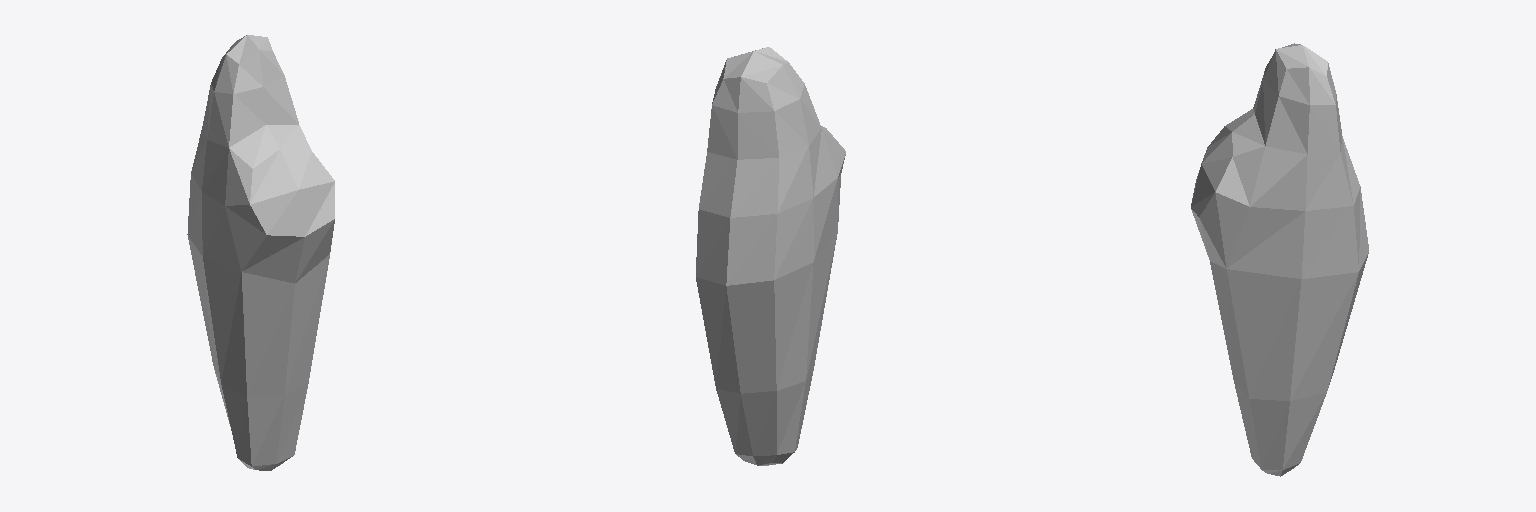
The model's file is Rock03_lava.obj.
3 renders of one model, left to right at view 1: azimuth 30°, elevation 25°; view 2: azimuth 150°, elevation 25°; view 3: azimuth 270°, elevation 25°, orthographic.
Parts seen in each view (by area): view 1: Rock03_lava; view 2: Rock03_lava; view 3: Rock03_lava.
Part boxes in pixels (x1,y1,x2,y2): Rock03_lava: (187, 35, 334, 470); Rock03_lava: (696, 47, 845, 465); Rock03_lava: (1191, 43, 1368, 476).
Size of the model in its own units: 90.27 by 363 by 139.